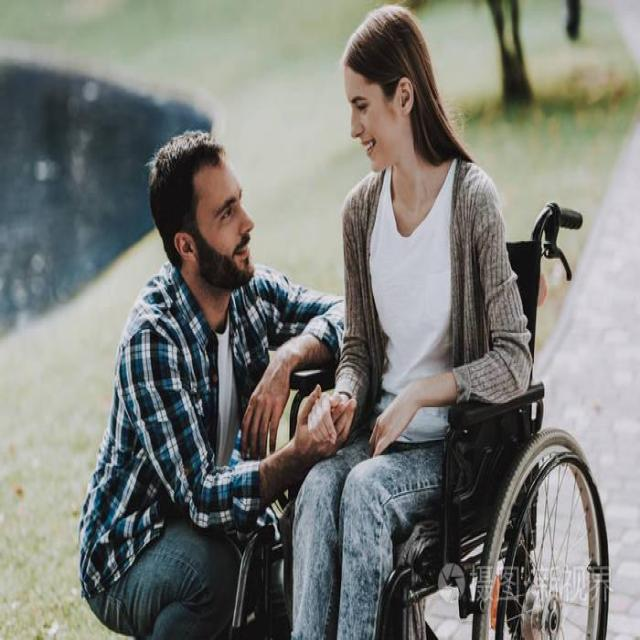wheelchairs: (228, 190, 618, 640)
